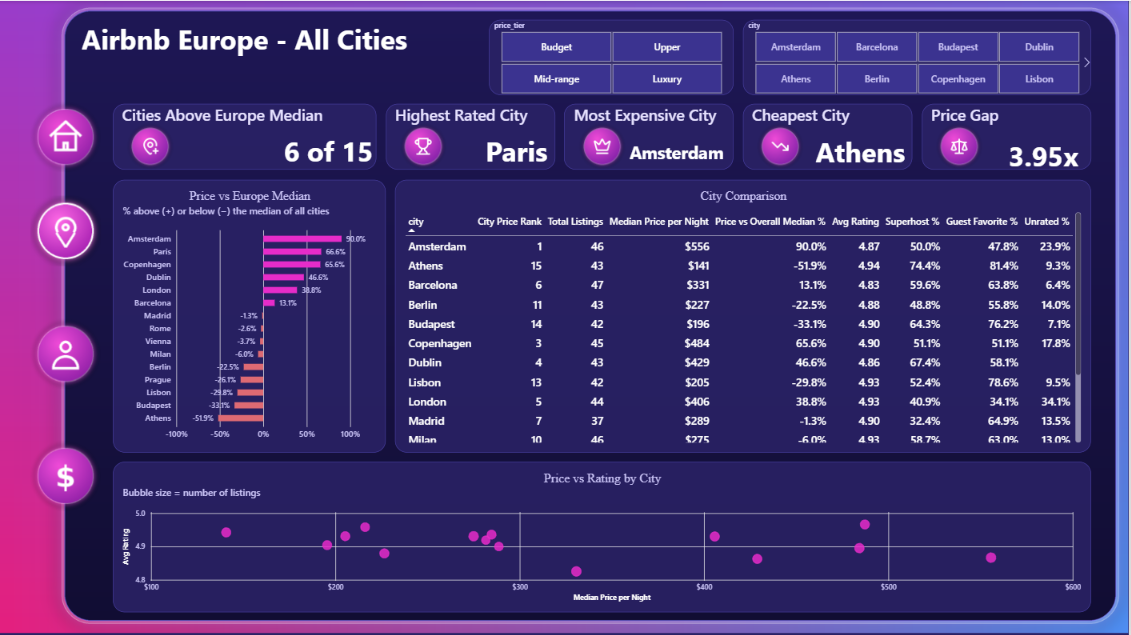

Layout of this report page (visuals, bound fields, positions):
{"tool":"powerbi","page":{"name":"city","canvas":[1920,1080],"ordinal":1},"visuals":[{"type":"tableEx","title":"City Comparison","fields":{"Values":["dim_city.city","dim_city.City Price Rank","dim_city.Total Listings","dim_city.Median Price per Night","dim_city.Price vs Overall Median %","dim_city.Avg Rating","dim_city.Superhost %","dim_city.Guest Favorite %","dim_city.Unrated %"]},"box":[672,304,1184,464],"z":0},{"type":"clusteredBarChart","title":"Price vs Europe Median","fields":{"Category":["dim_city.city"],"Y":["dim_city.Price vs Overall Median %"]},"box":[192,304,464,464],"z":1000},{"type":"scatterChart","title":"Price vs Rating by City","fields":{"Category":["dim_city.city"],"Size":["dim_city.Total Listings"],"X":["dim_city.Median Price per Night"],"Y":["dim_city.Avg Rating"]},"box":[192,784,1664,256],"z":2000},{"type":"actionButton","box":[48,128,128,208],"z":3000},{"type":"actionButton","box":[48,288,128,208],"z":4000},{"type":"actionButton","box":[48,496,128,208],"z":5000},{"type":"actionButton","box":[48,704,128,208],"z":6000},{"type":"cardVisual","fields":{"Data":["dim_city.Dashboard Title"]},"box":[80,16,672,96],"z":7000},{"type":"slicer","fields":{"Values":["dim_city.city"]},"box":[1264,32,592,128],"z":8000},{"type":"shape","box":[192,176,448,112],"z":9000},{"type":"shape","box":[656,176,288,112],"z":10000},{"type":"shape","box":[1264,176,288,112],"z":11000},{"type":"shape","box":[1568,176,288,112],"z":12000},{"type":"cardVisual","fields":{"Data":["dim_city.Price Gap (x)"]},"box":[1664,208,224,112],"z":13000},{"type":"textbox","box":[1584,176,208,48],"z":14000},{"type":"cardVisual","fields":{"Data":["dim_city.Cheapest City"]},"box":[1312,192,304,128],"z":15000},{"type":"textbox","box":[1280,176,208,48],"z":16000},{"type":"shape","box":[960,176,288,112],"z":17000},{"type":"cardVisual","fields":{"Data":["dim_city.Most Expensive City"]},"box":[1040,192,224,128],"z":18000},{"type":"textbox","box":[976,176,256,48],"z":19000},{"type":"image","box":[976,208,96,80],"z":20000},{"type":"cardVisual","fields":{"Data":["dim_city.Cities Above Median Label"]},"box":[448,208,224,96],"z":21000},{"type":"cardVisual","fields":{"Data":["dim_city.Highest Rated City"]},"box":[768,208,224,96],"z":22000},{"type":"textbox","box":[672,176,240,48],"z":23000},{"type":"textbox","box":[208,176,352,48],"z":24000},{"type":"image","box":[1584,208,96,80],"z":25000},{"type":"image","box":[1280,208,96,80],"z":26000},{"type":"image","box":[672,208,96,80],"z":27000},{"type":"image","box":[208,208,96,80],"z":28000},{"type":"slicer","fields":{"Values":["dim_price_tier.price_tier"]},"box":[832,32,416,128],"z":28001}]}

Visuals, with their boxes in screenshot pixels (x1, y1, x2, y2), scaled from the page's 1920x1080 canvas onto the 1131x635 screenshot:
"City Comparison" tableEx: [396, 179, 1093, 452]
"Price vs Europe Median" clusteredBarChart: [113, 179, 386, 452]
"Price vs Rating by City" scatterChart: [113, 461, 1093, 611]
actionButton: [28, 75, 104, 198]
actionButton: [28, 169, 104, 292]
actionButton: [28, 292, 104, 414]
actionButton: [28, 414, 104, 536]
cardVisual - dim_city.Dashboard Title: [47, 9, 443, 66]
slicer - dim_city.city: [745, 19, 1093, 94]
shape: [113, 103, 377, 169]
shape: [386, 103, 556, 169]
shape: [745, 103, 914, 169]
shape: [924, 103, 1093, 169]
cardVisual - dim_city.Price Gap (x): [980, 122, 1112, 188]
textbox: [933, 103, 1056, 132]
cardVisual - dim_city.Cheapest City: [773, 113, 952, 188]
textbox: [754, 103, 877, 132]
shape: [566, 103, 735, 169]
cardVisual - dim_city.Most Expensive City: [613, 113, 745, 188]
textbox: [575, 103, 726, 132]
image: [575, 122, 631, 169]
cardVisual - dim_city.Cities Above Median Label: [264, 122, 396, 179]
cardVisual - dim_city.Highest Rated City: [452, 122, 584, 179]
textbox: [396, 103, 537, 132]
textbox: [123, 103, 330, 132]
image: [933, 122, 990, 169]
image: [754, 122, 811, 169]
image: [396, 122, 452, 169]
image: [123, 122, 179, 169]
slicer - dim_price_tier.price_tier: [490, 19, 735, 94]
